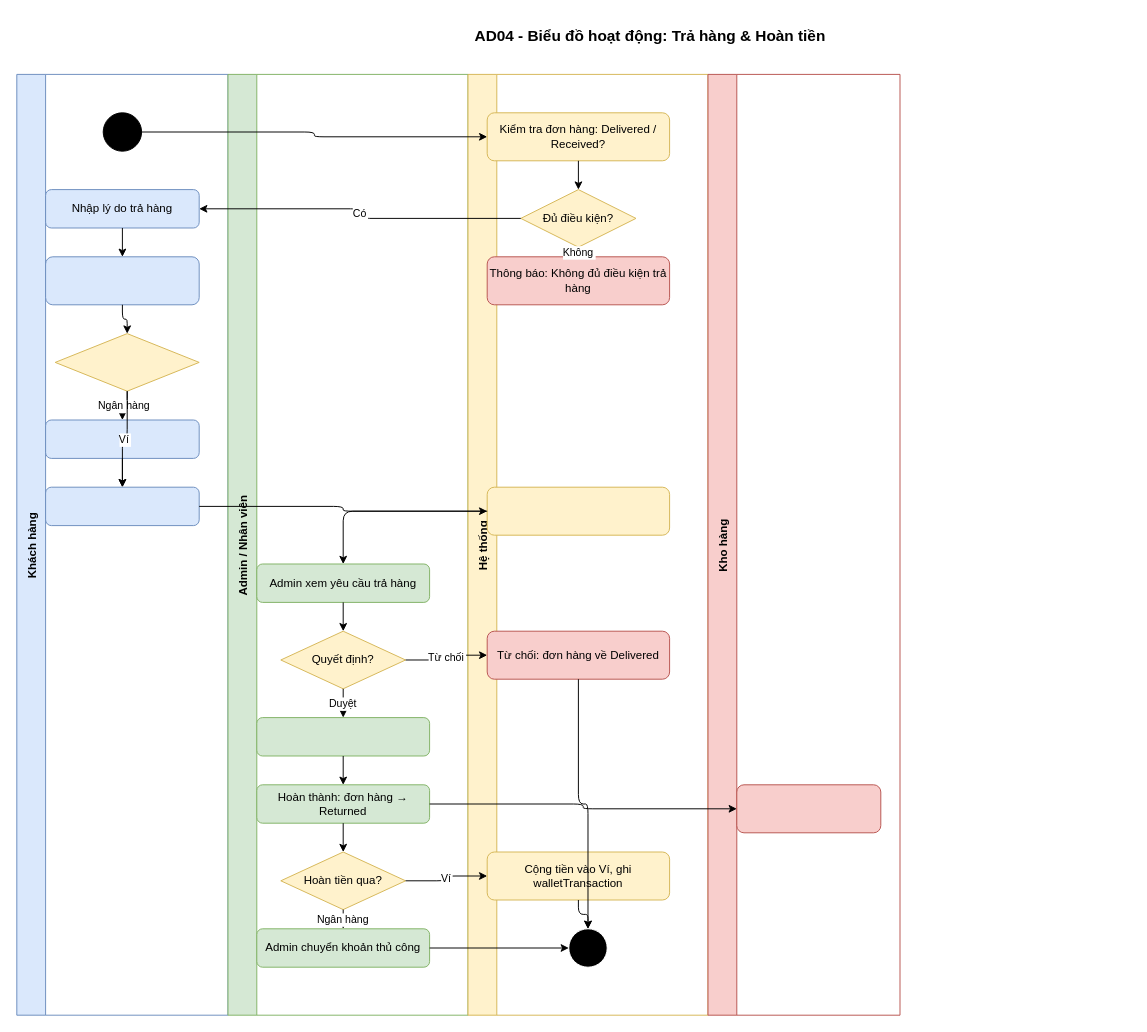
Image size: 1147x1032. Some labels were removed from this diagram. The shapes that lost their labels are listed below. From the top down, each one's centre as x and y in pixels, then its label:
[122,280]: Upload ảnh minh chứng (tối đa 4 ảnh)
[126,362]: Phương thức hoàn tiền?
[122,438]: Nhập thông tin ngân hàng
[122,506]: Gửi yêu cầu trả hàng
[578,510]: Lưu return request, đơn hàng: Return Requested
[343,736]: Duyệt: đơn hàng → Returning
[808,808]: Hoàn kho (inventoryDeducted = false)
